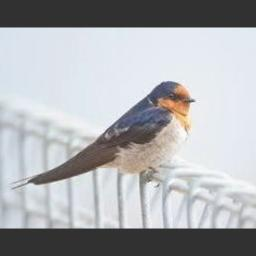Swallow: (10, 81, 196, 190)
